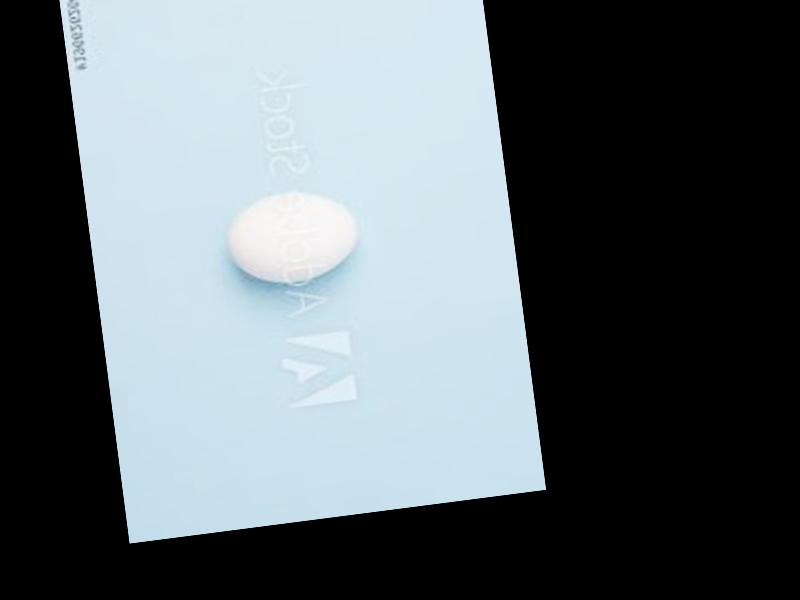Eggs: (224, 186, 360, 289)
